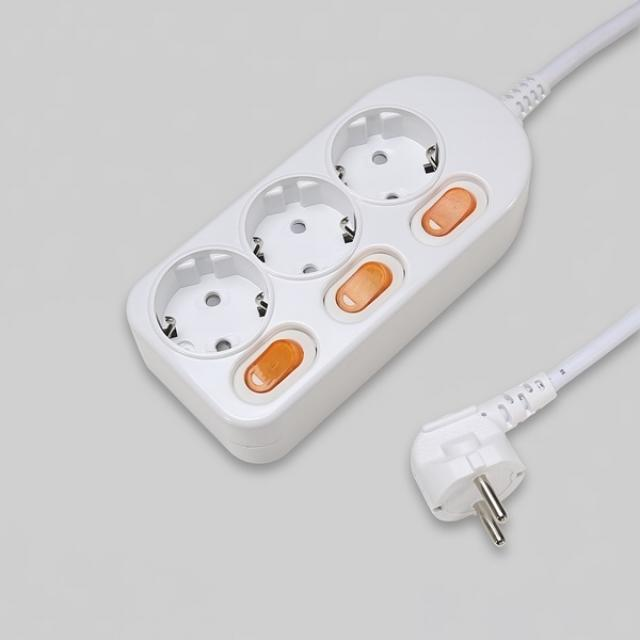typeb: (108, 54, 572, 489)
